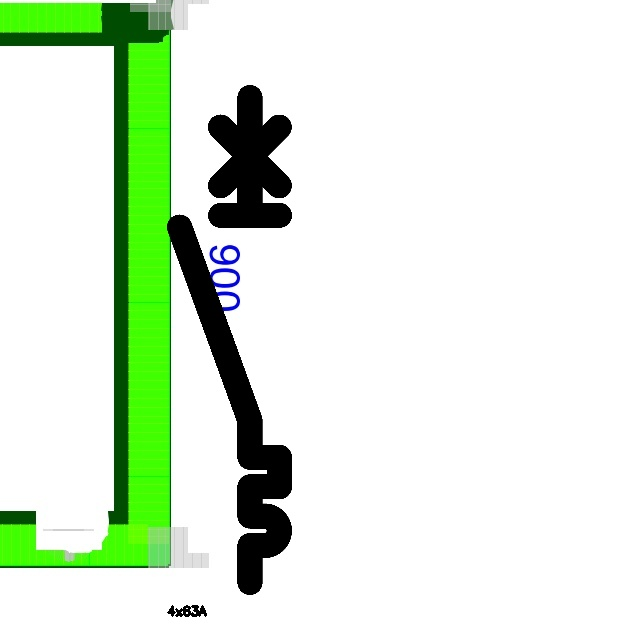interruptor_termomagnetico: (167, 85, 292, 595)
